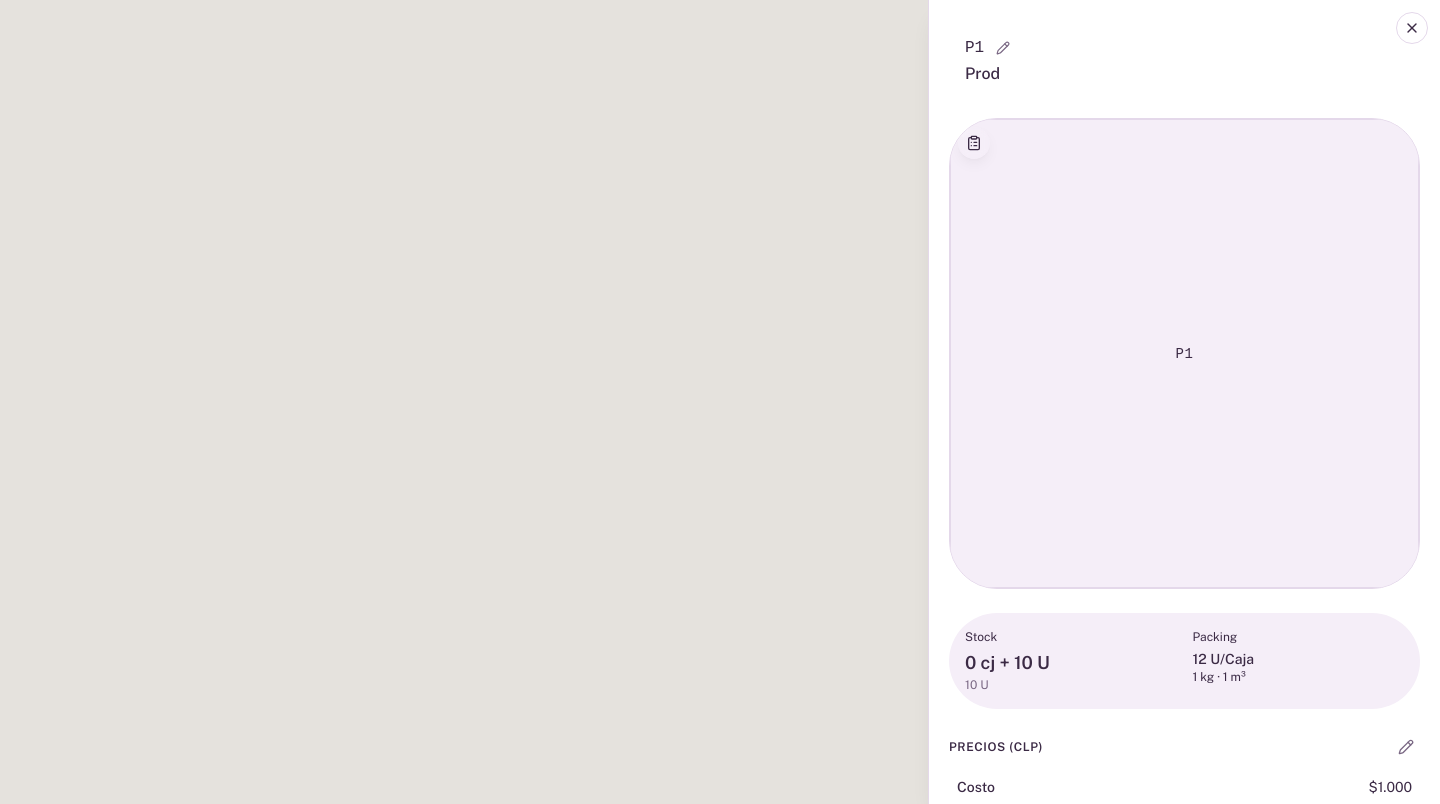
Scenario: ProductDrawer — edicion directa › ganancias calculadas en vivo, solo lectura
The width and height of the screenshot is (1440, 804).
Click the button titled "Editar producto". click: [1406, 747]
box: x1=1392 y1=733 x2=1420 y2=761
(page scrolled)
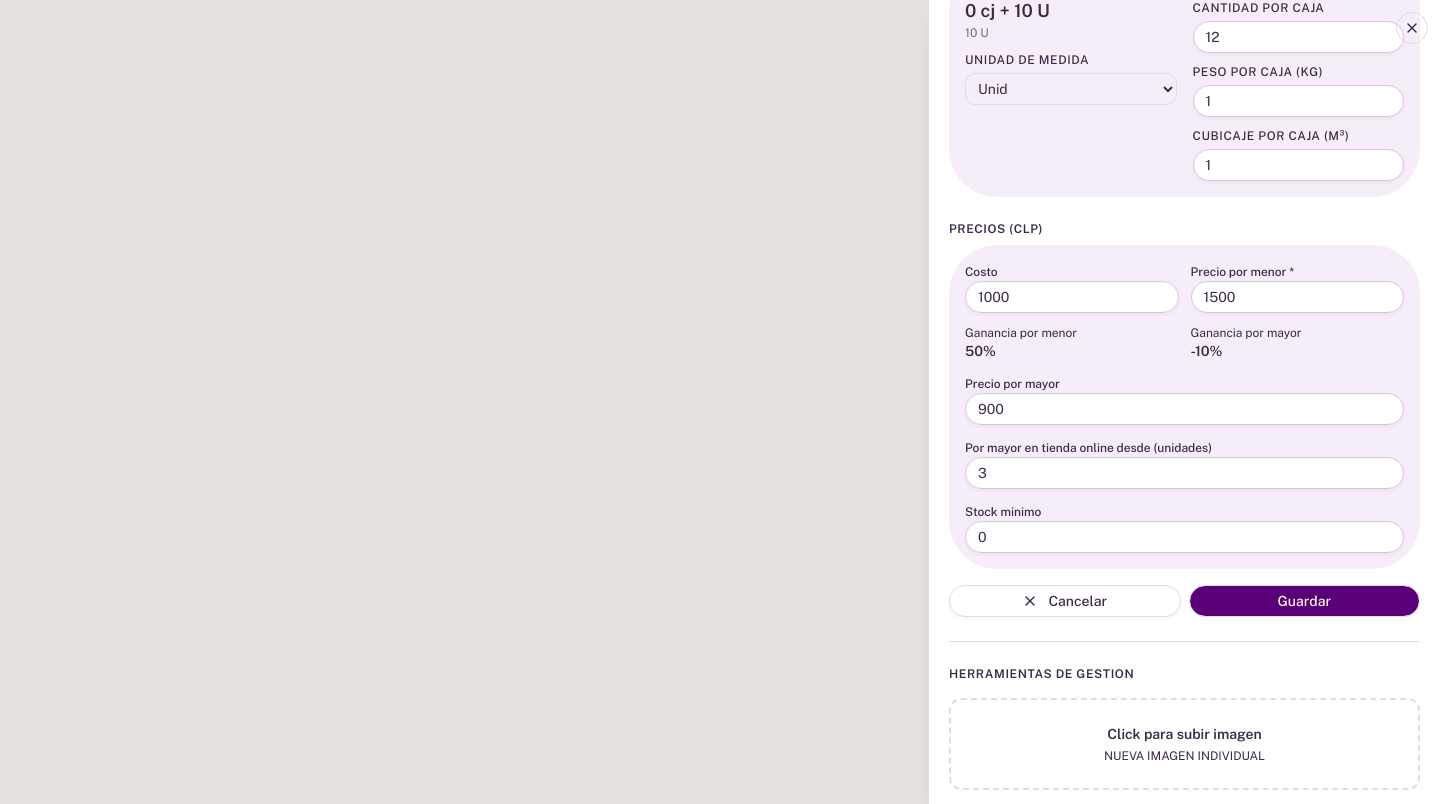
Result: the text with test id "ganancia-detalle" reads "50%" at x1=965 y1=343 x2=996 y2=359
Result: the text with test id "ganancia-mayor" reads "-10%" at x1=1190 y1=343 x2=1222 y2=359
Replace the text in the number field with test id "precio-mayor-input" with "1200". click: [1184, 409]
box: x1=965 y1=393 x2=1404 y2=425
(page scrolled)
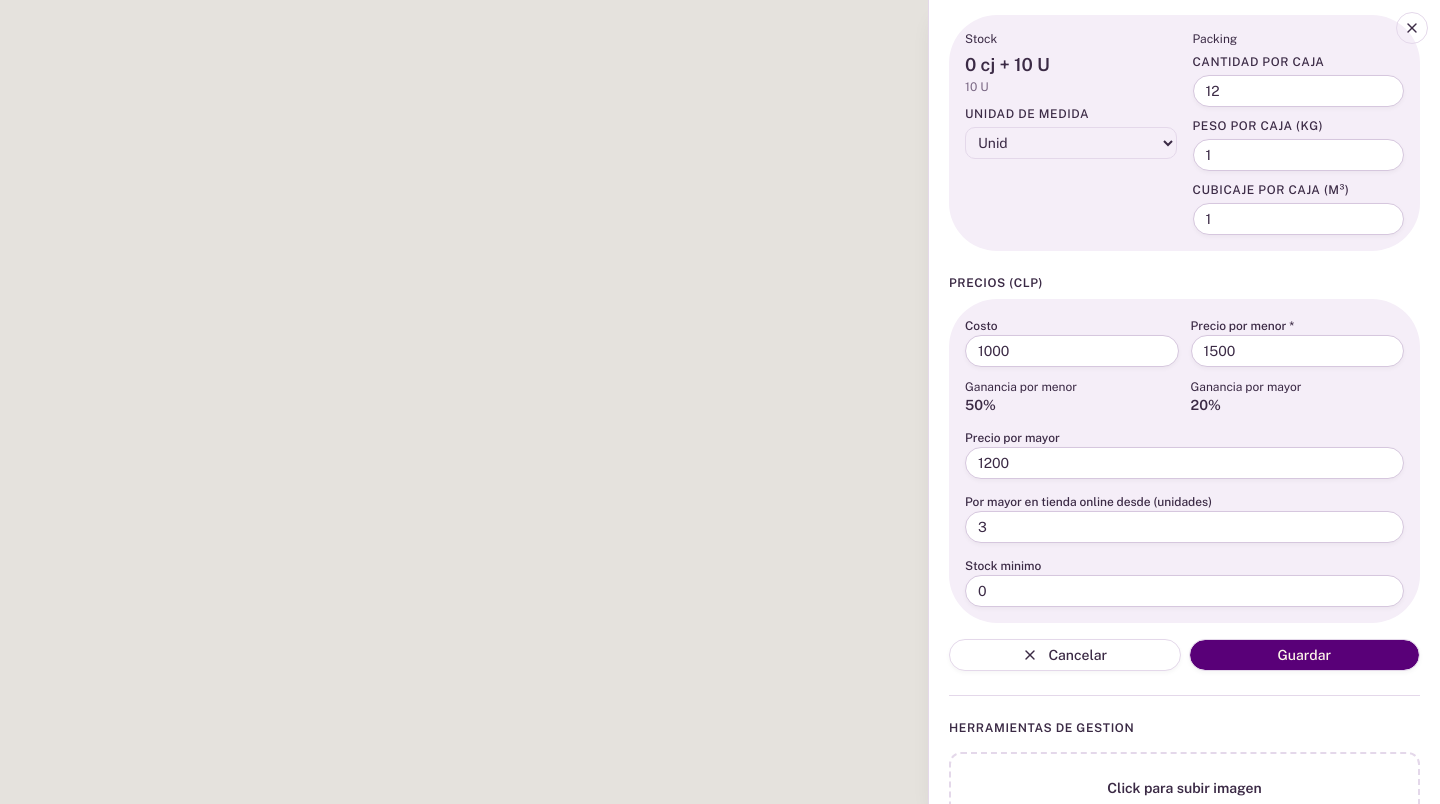
Result: the text with test id "ganancia-mayor" reads "20%" at x1=1190 y1=397 x2=1221 y2=413
